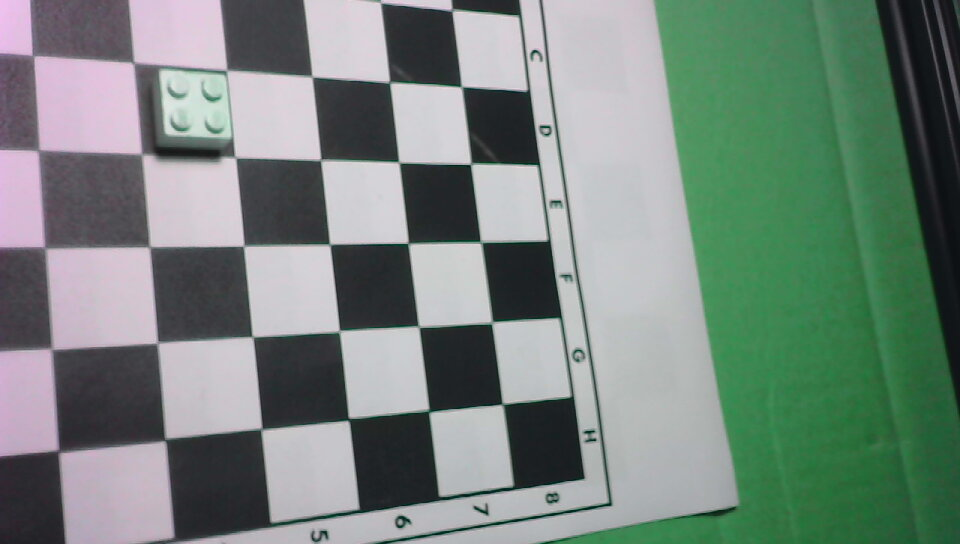wp: (140, 53, 241, 160)
